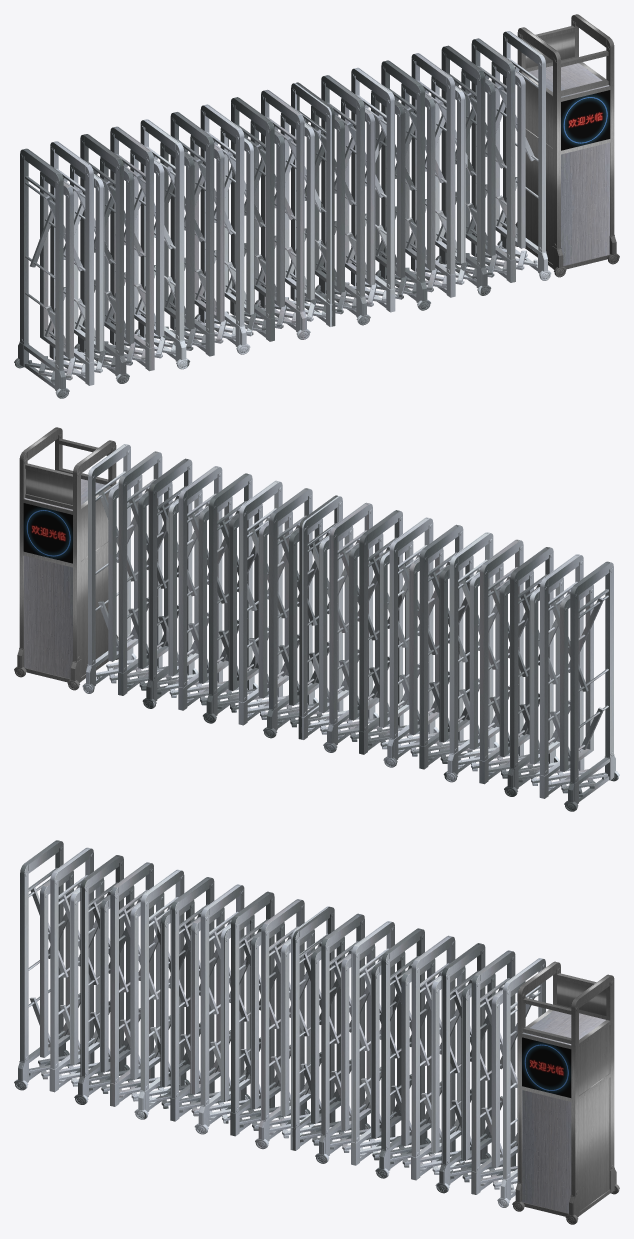
The model's file is shensuomen.glb.
The picture shows the model from 3 angles, top to bottom: view 1: azimuth 30°, elevation 25°; view 2: azimuth 150°, elevation 25°; view 3: azimuth 330°, elevation 25°; orthographic projection.
Parts seen in each view (by area): view 1: Box14798, 对象034, Box14801, Box14823, Box14825, Box14802, Box14818, Box14830, Box14821, Box14819, Box14829, Box14827 (+25 smaller); view 2: Box14798, 对象034, Box14801, Box14823, Box14825, Box14830, Box14802, Box14829, Box14819, Box14821, Box14827, Box14803 (+26 smaller); view 3: Box14798, 对象034, Box14825, Box14804, Box14823, Box14802, Box14801, Box14827, Box14829, Box14819, Box14821, Box14830 (+25 smaller).
Part boxes in pixels (x1,y1,x2,y2): Box14798: [515, 14, 619, 277]; 对象034: [528, 63, 609, 265]; Box14801: [14, 148, 69, 398]; Box14823: [134, 119, 190, 369]; Box14825: [194, 104, 250, 354]; Box14802: [435, 45, 491, 295]; Box14818: [30, 164, 115, 374]; Box14830: [411, 53, 455, 297]; Box14821: [74, 134, 129, 383]; Box14819: [375, 60, 430, 310]; Box14829: [315, 75, 370, 325]; Box14827: [255, 89, 310, 339]; Box14798: [14, 427, 118, 690]; 对象034: [24, 479, 105, 678]; Box14801: [564, 561, 619, 811]; Box14823: [443, 532, 499, 782]; Box14825: [383, 517, 439, 767]; Box14830: [178, 466, 222, 710]; Box14802: [142, 458, 198, 708]; Box14829: [263, 488, 318, 738]; Box14819: [203, 473, 258, 723]; Box14821: [504, 547, 559, 796]; Box14827: [323, 502, 378, 752]; Box14803: [539, 554, 584, 798]; Box14798: [512, 961, 619, 1224]; 对象034: [522, 1010, 605, 1213]; Box14825: [194, 884, 250, 1134]; Box14804: [471, 950, 515, 1194]; Box14823: [134, 869, 190, 1119]; Box14802: [435, 943, 491, 1193]; Box14801: [14, 840, 69, 1090]; Box14827: [255, 899, 310, 1149]; Box14829: [315, 913, 370, 1163]; Box14819: [375, 928, 430, 1178]; Box14821: [74, 855, 129, 1104]; Box14830: [411, 935, 455, 1180].
Bounding box in the file's own units: 0.0344 × 0.0129 × 0.00463.
Materials: 4 (4 with a texture image).
